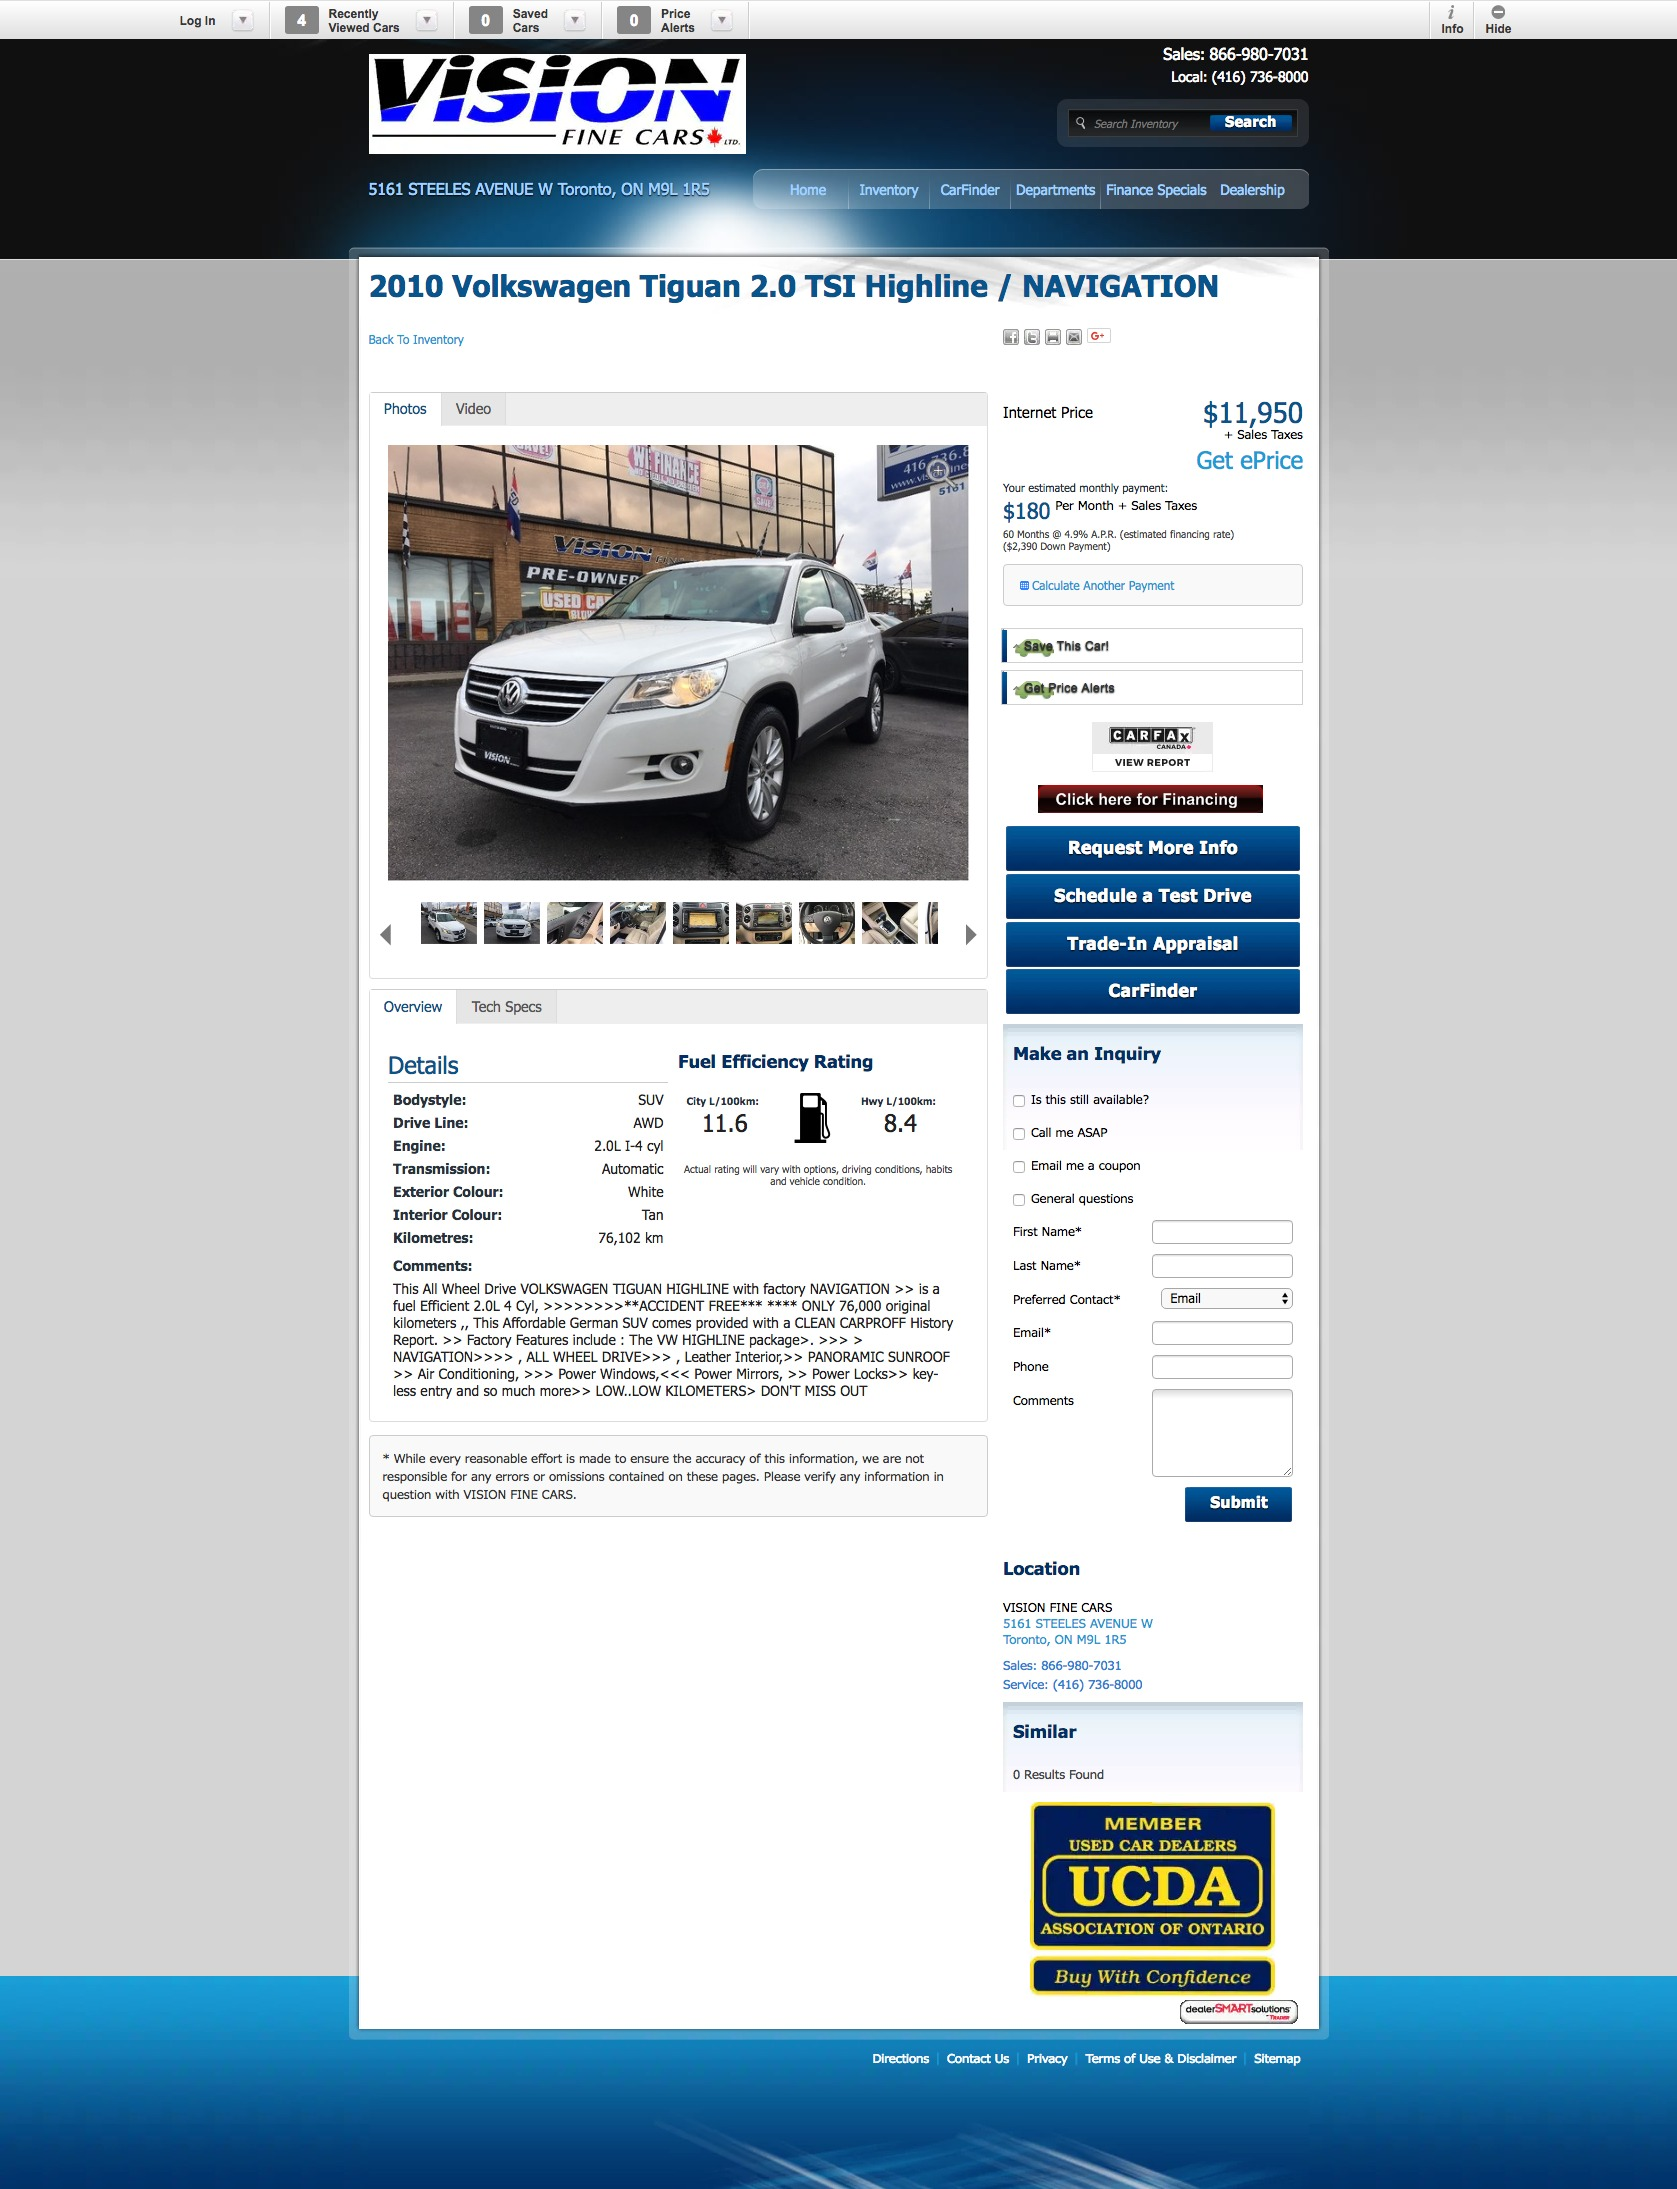car: (965, 925, 978, 946)
